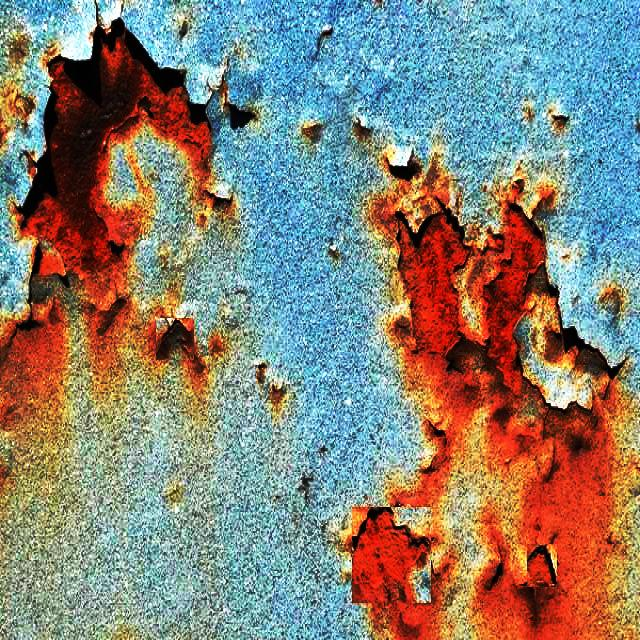Corrosion: (21, 19, 209, 272), (434, 341, 555, 506), (528, 407, 610, 640), (515, 268, 612, 410), (484, 204, 546, 390), (399, 211, 470, 354), (353, 509, 430, 606), (372, 577, 481, 640), (0, 296, 60, 372), (528, 547, 558, 588)
